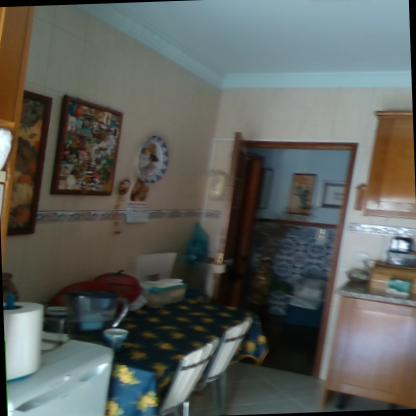open: (205, 127, 378, 388)
